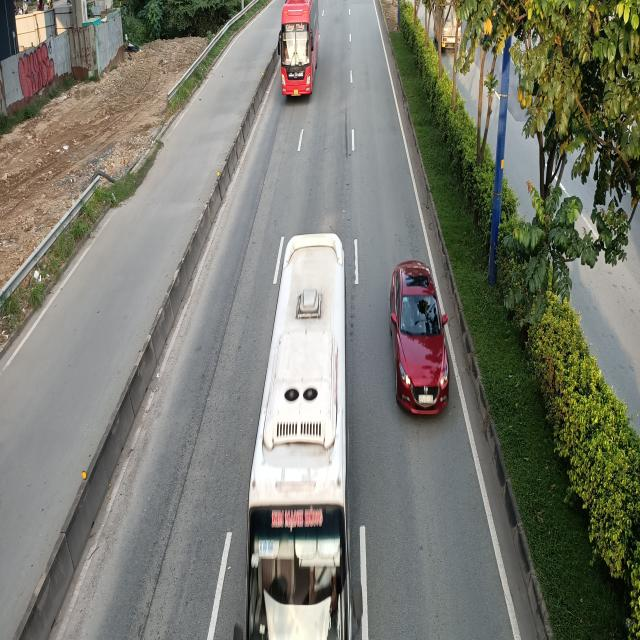car: (390, 263, 450, 416)
coach: (235, 230, 358, 640), (278, 0, 318, 98)
